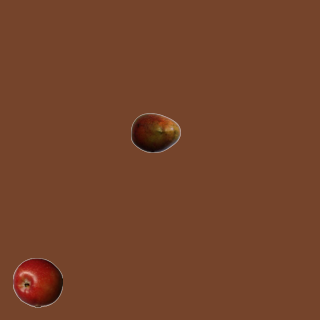Apple Braeburn: (12, 257, 62, 307)
Mango Red: (130, 107, 180, 157)
